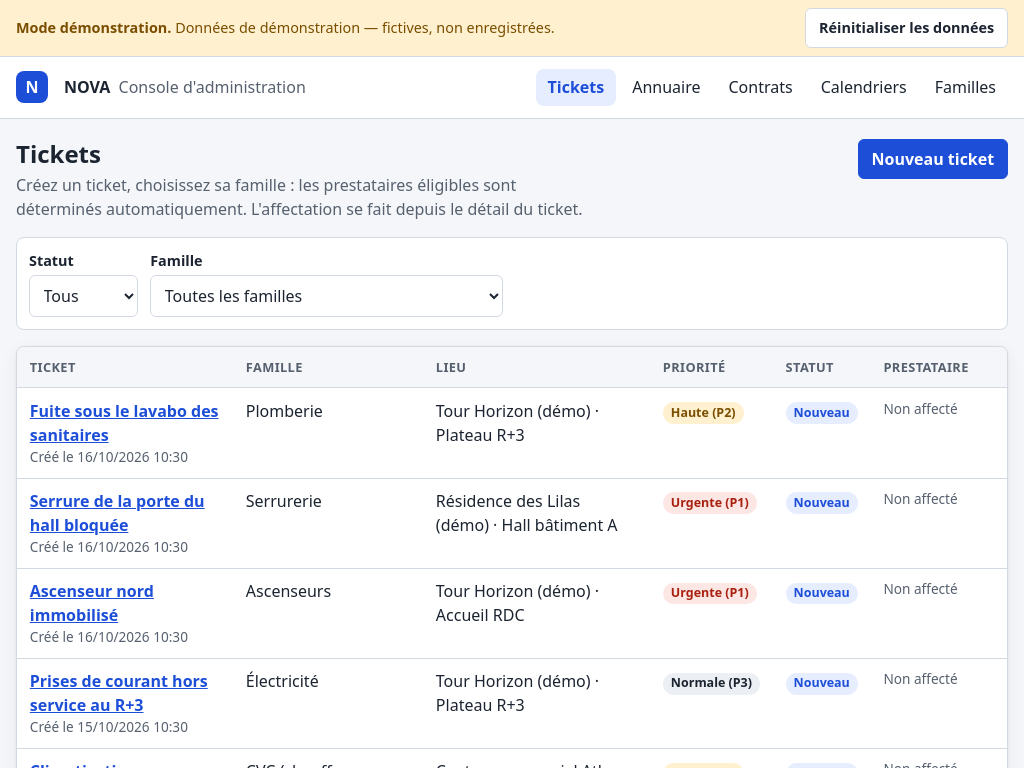
Test: détail du ticket et affectation › le premier prestataire éligible (priorité 1) est présélectionné et marqué « Suggéré »
Click the link "Fuite sous le lavabo des sanitaires".
click(125, 423)  # box [30,399,220,447]
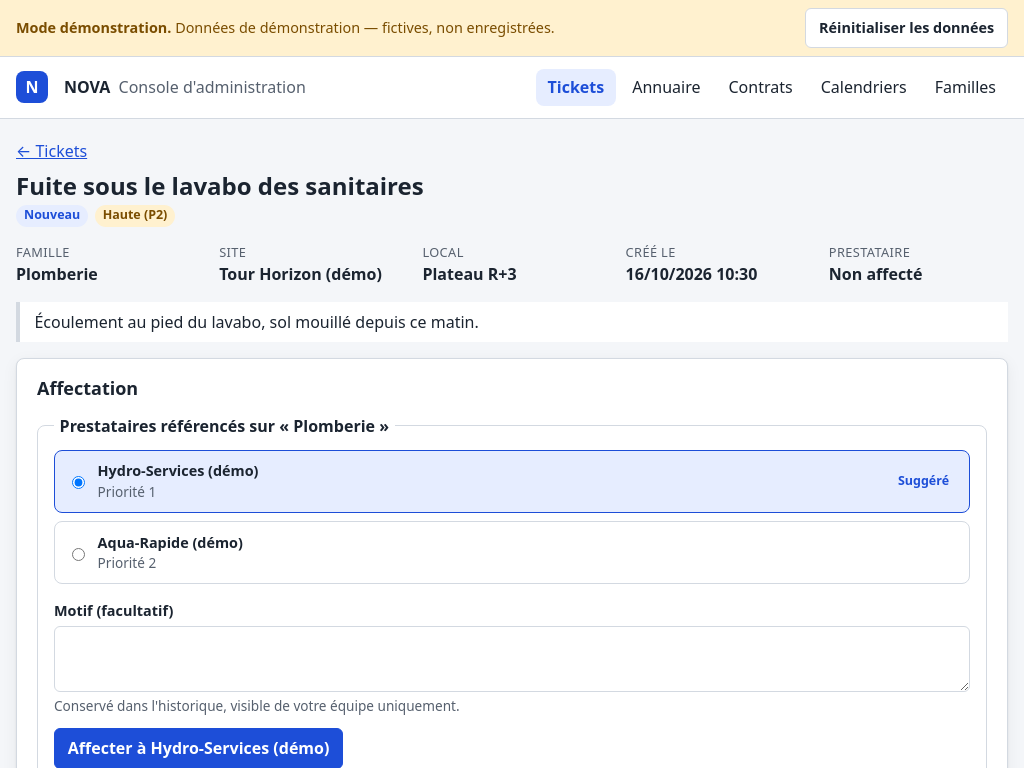
Check: the button "Affecter à Hydro-Services (démo)" is enabled, box [54,728,343,767]
Check: the text "Suggéré" is shown, box [890,470,957,492]
